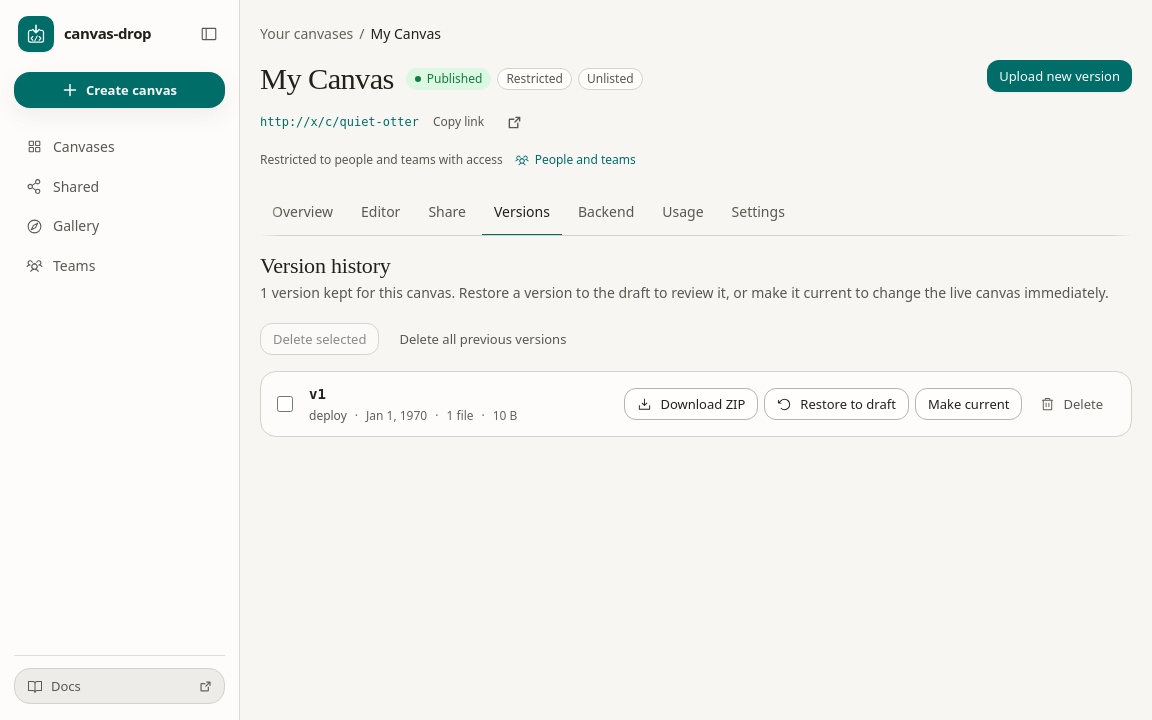
it: Version cleanup selection › keeps deletion disabled when its preview fails
Click the button "Delete" at (1072, 404), box [1028,388,1115,420]
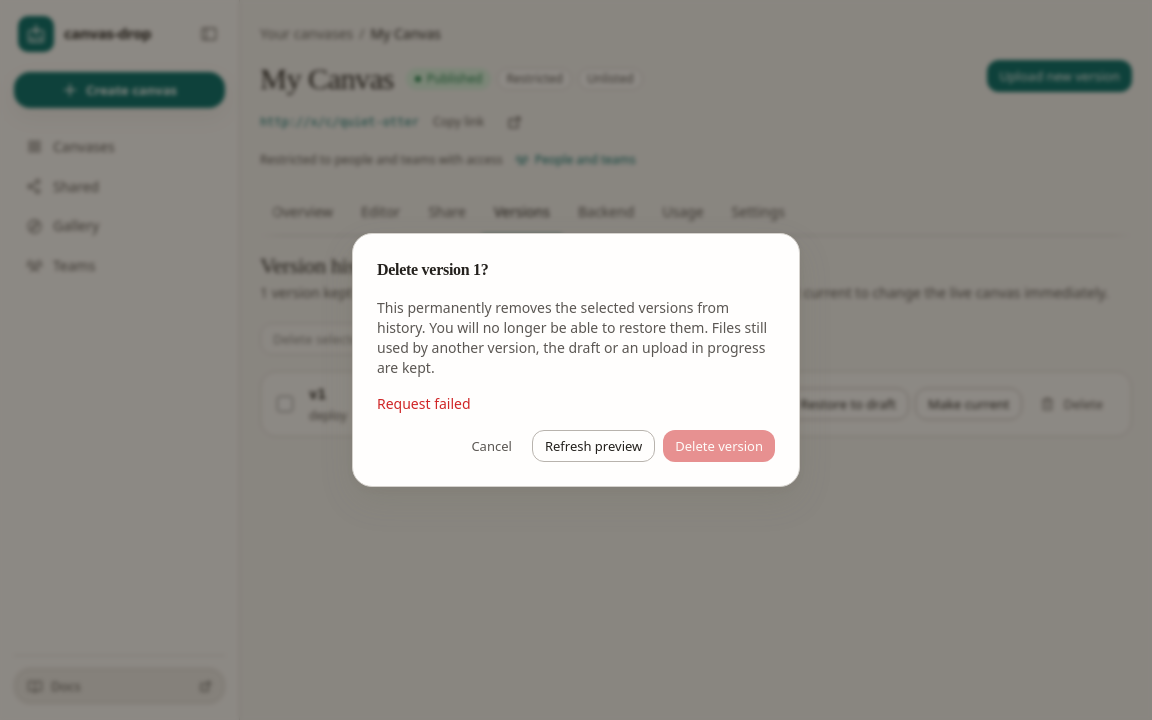
Result: the message "Request failed" is shown at [377,394,471,413]
Result: the button "Delete version" is disabled at [663,430,775,462]
